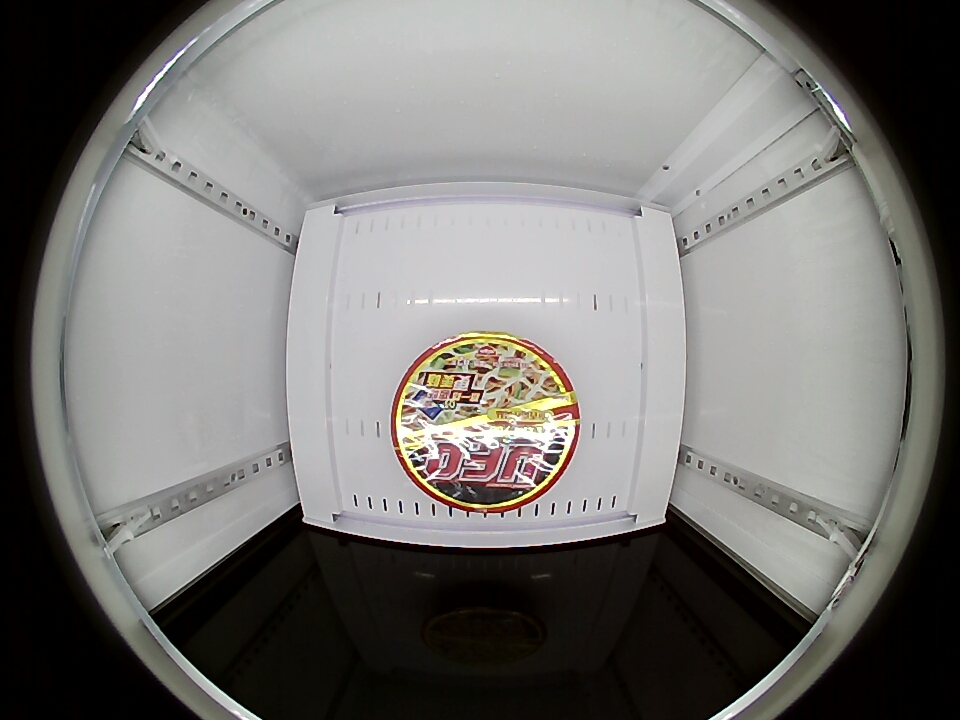ufo2: (391, 332, 580, 514)
